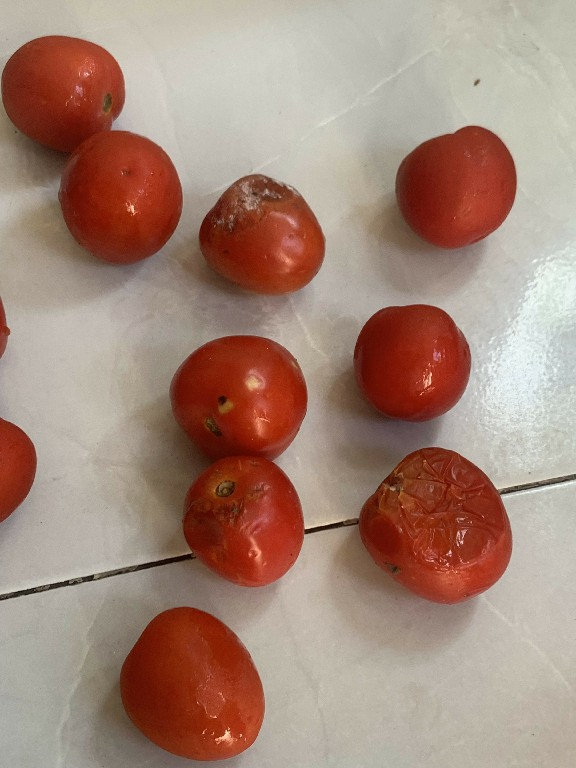NG: (349, 440, 516, 605), (177, 451, 307, 593), (167, 333, 312, 458), (195, 168, 325, 293)
OK: (111, 598, 268, 758), (53, 126, 182, 268), (387, 122, 527, 252), (344, 297, 475, 430), (0, 26, 129, 146)
